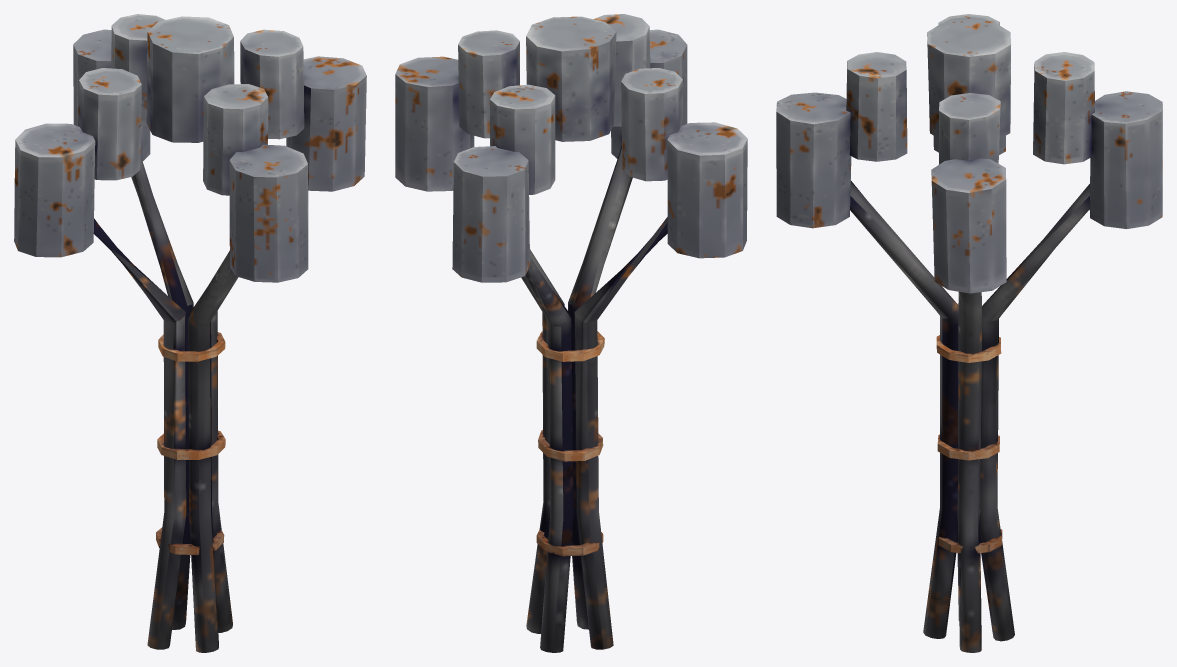
Rendered from ScrapTreeExhaust.glb.
3 renders of one model, left to right at view 1: azimuth 30°, elevation 25°; view 2: azimuth 150°, elevation 25°; view 3: azimuth 270°, elevation 25°, orthographic.
Visible parts, largest first — view 1: Mufflers, Pipes, Lashing; view 2: Mufflers, Pipes, Lashing; view 3: Mufflers, Pipes, Lashing.
Boxes of the visible parts, box(x1,y1,x2,y2) form: Mufflers: box(14, 14, 366, 282); Pipes: box(93, 155, 238, 652); Lashing: box(156, 332, 225, 555); Mufflers: box(395, 14, 747, 282); Pipes: box(521, 146, 667, 652); Lashing: box(536, 331, 604, 556); Mufflers: box(776, 14, 1162, 293); Pipes: box(850, 180, 1089, 652); Lashing: box(936, 335, 1002, 553).
Bounding box in the file's own units: 5.55 × 9.36 × 5.46.
Materials: 3 (3 with a texture image).
